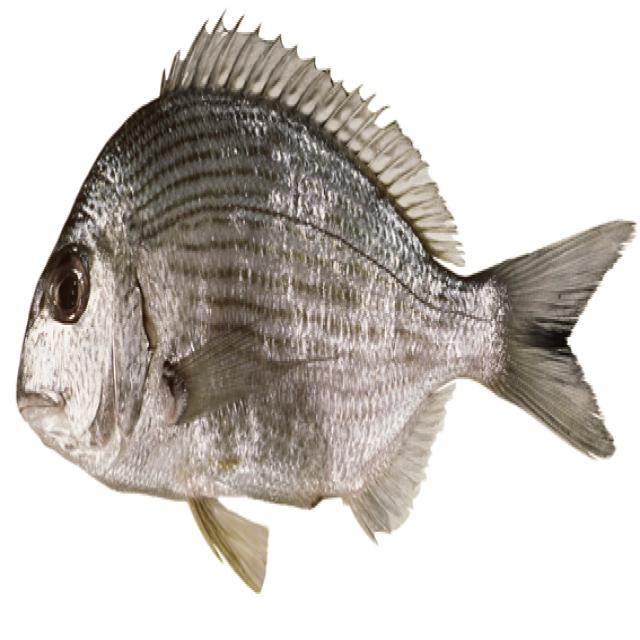ikan: (14, 8, 636, 594)
